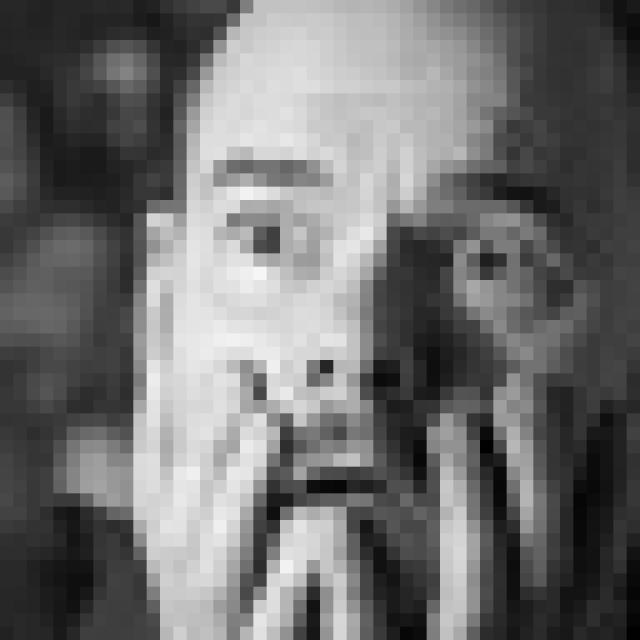fear: (196, 151, 594, 575)
